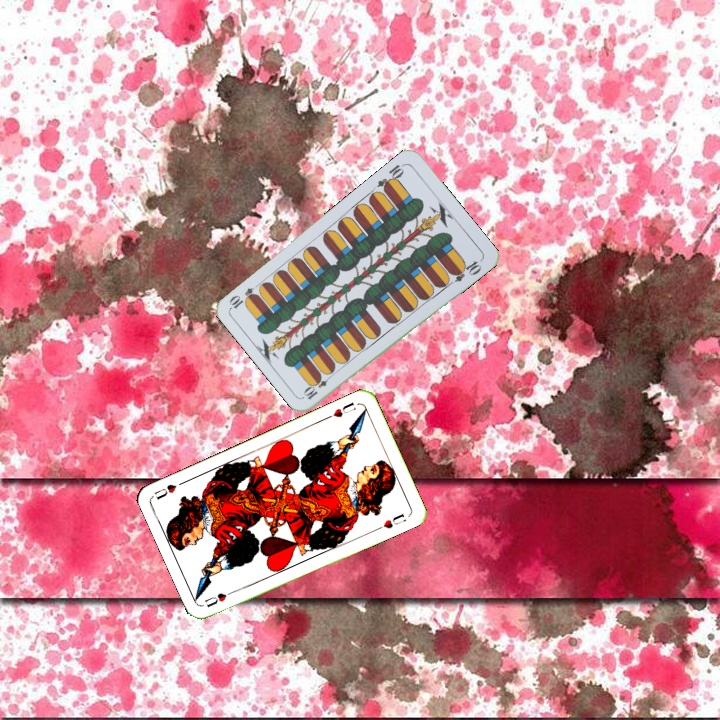E10: (373, 160, 407, 194), (300, 369, 335, 402)
HU: (200, 586, 238, 610), (322, 398, 358, 422)
